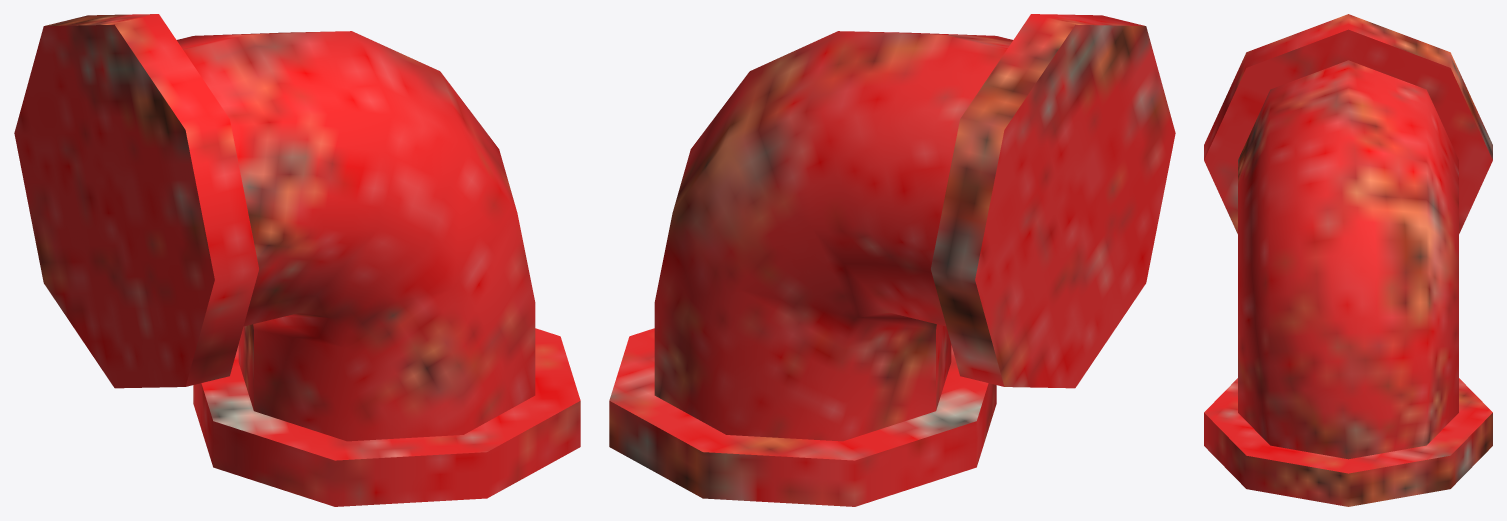
File: SM_PROP_PIPE_METAL_05.fbx
3 renders of one model, left to right at view 1: azimuth 30°, elevation 25°; view 2: azimuth 150°, elevation 25°; view 3: azimuth 270°, elevation 25°, orthographic. The views are drawn at different scales.
Visible parts, largest first — view 1: SM_PROP_PIPE_METAL_05; view 2: SM_PROP_PIPE_METAL_05; view 3: SM_PROP_PIPE_METAL_05.
Boxes of the visible parts, bbox=[...] form: SM_PROP_PIPE_METAL_05: bbox=[14, 14, 580, 506]; SM_PROP_PIPE_METAL_05: bbox=[609, 14, 1175, 506]; SM_PROP_PIPE_METAL_05: bbox=[1204, 14, 1492, 506].
Bounding box in the file's own units: 0.5029 × 0.5029 × 0.3917.
